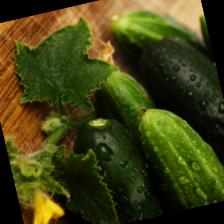cucumber: (65, 107, 166, 224), (132, 91, 224, 216)
